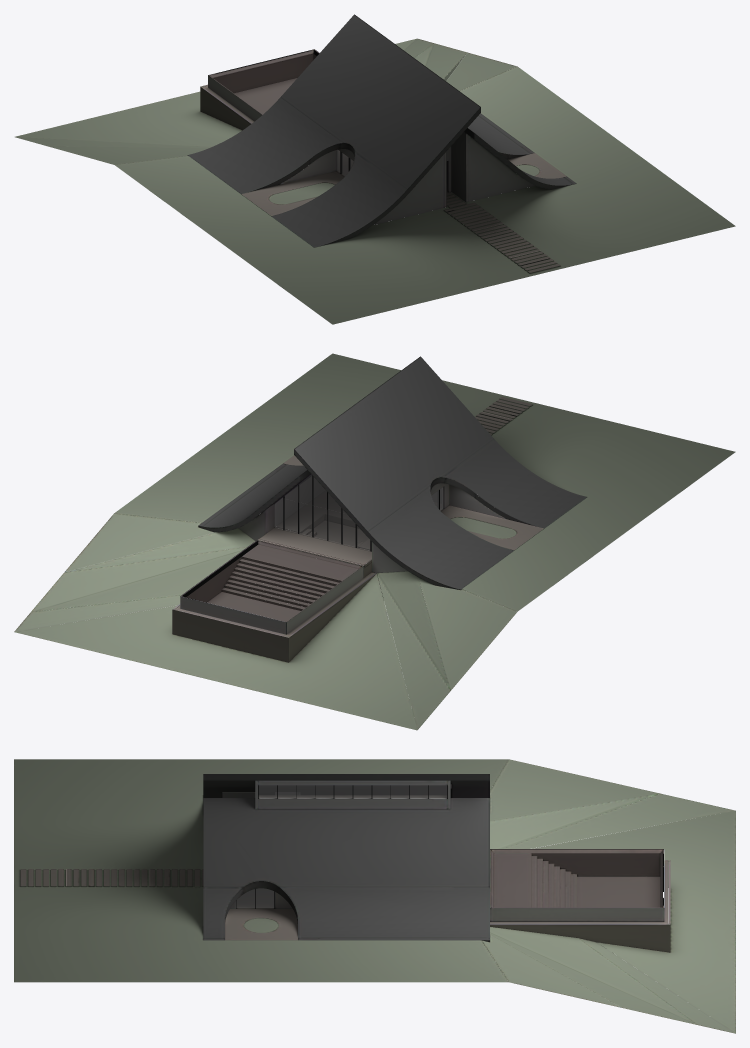
The model's file is cabana-tusa.glb.
3 views of the same model, one above another, from view 1: azimuth 30°, elevation 25°; view 2: azimuth 150°, elevation 25°; view 3: azimuth 270°, elevation 25° (orthographic). The views are drawn at different scales.
Visible parts, largest first — view 1: C-TOPO, A-ROOF, A-FLOR, I-WALL; view 2: C-TOPO, A-ROOF, A-FLOR, I-WALL, A-GLAZ-CURT, A-GLAZ-CWMG; view 3: C-TOPO, A-ROOF, A-FLOR, I-WALL, A-GLAZ-CURT.
Boxes of the visible parts, left/top/right/bottom form: C-TOPO: left=15, top=38, right=735, bottom=324; A-ROOF: left=187, top=14, right=576, bottom=247; A-FLOR: left=200, top=49, right=566, bottom=272; I-WALL: left=208, top=49, right=534, bottom=224; C-TOPO: left=14, top=353, right=735, bottom=730; A-ROOF: left=198, top=356, right=586, bottom=589; A-FLOR: left=172, top=397, right=543, bottom=662; I-WALL: left=180, top=474, right=506, bottom=634; A-GLAZ-CURT: left=275, top=475, right=442, bottom=550; A-GLAZ-CWMG: left=283, top=475, right=439, bottom=551; C-TOPO: left=14, top=759, right=735, bottom=1033; A-ROOF: left=203, top=774, right=489, bottom=942; A-FLOR: left=20, top=795, right=670, bottom=952; I-WALL: left=222, top=780, right=664, bottom=921; A-GLAZ-CURT: left=237, top=785, right=446, bottom=907.
Bounding box in the file's own units: 27.9 × 9.62 × 38.15.
Materials: 7 (6 with a texture image).
